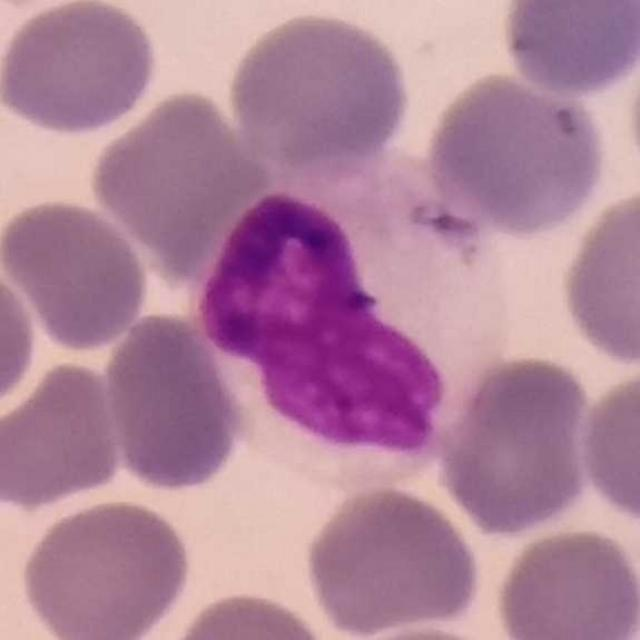mono: (186, 161, 521, 498)
